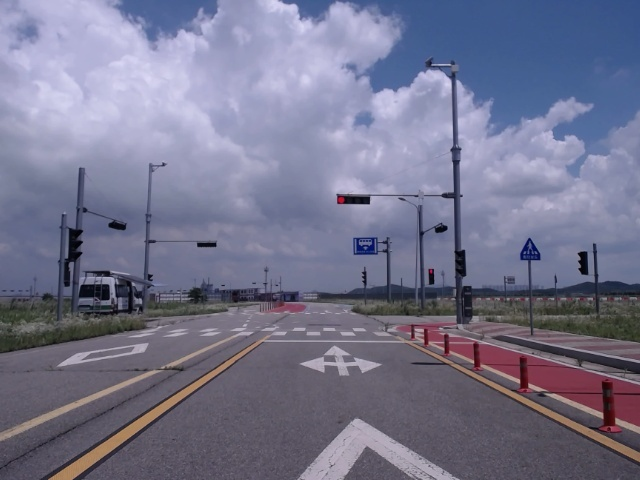red_4: (337, 195, 370, 204)
